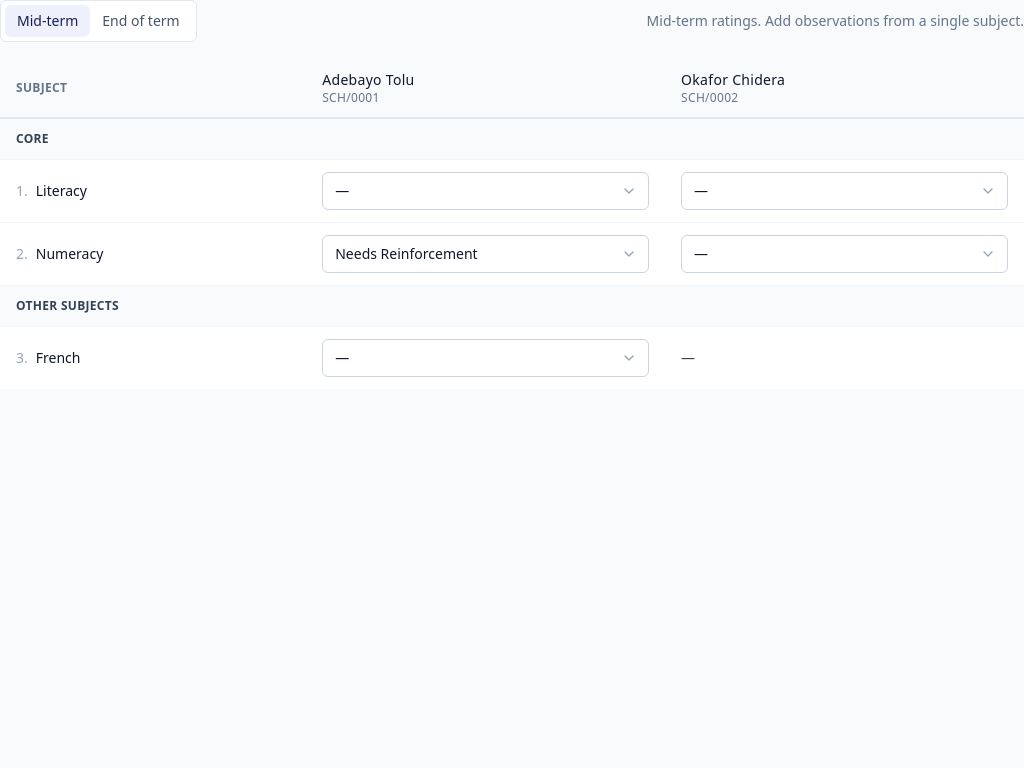
Test: AllSubjectsEntryGrid › asks before switching period with unsaved changes
The width and height of the screenshot is (1024, 768).
Select "Meets Expectation" in the dropdown named "Mid-term rating for Okafor Chidera in Numeracy" at (845, 254), box [681,235,1008,273]
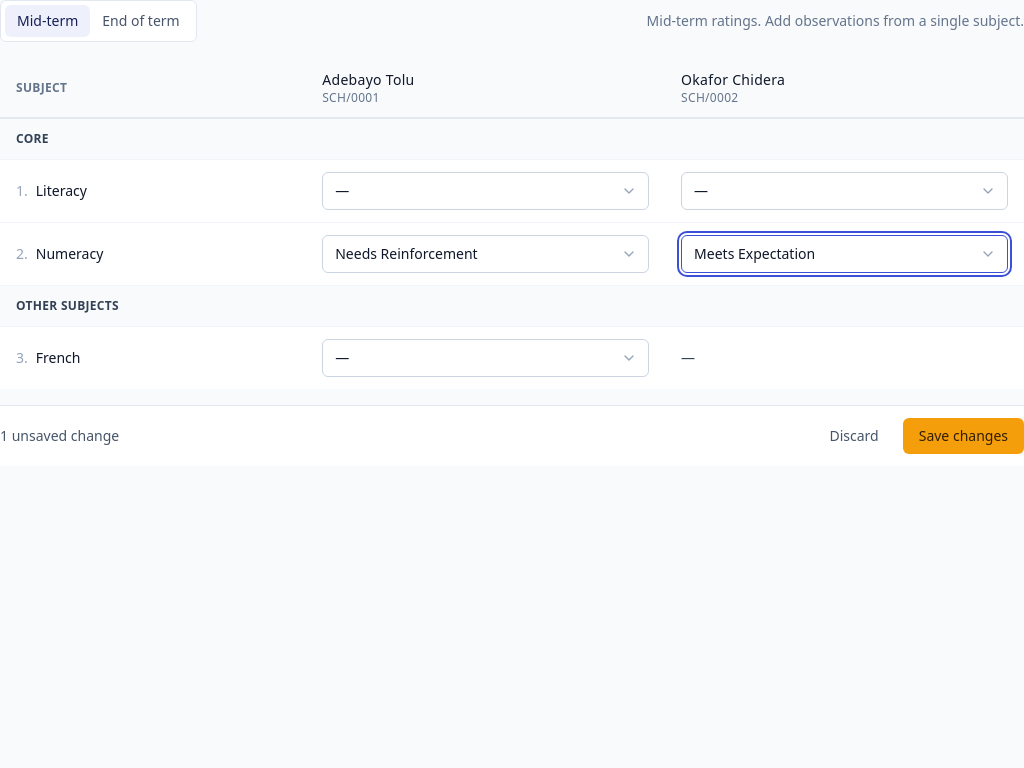
Click the radio button labelled "End of term" at (141, 21), box [90,5,192,37]
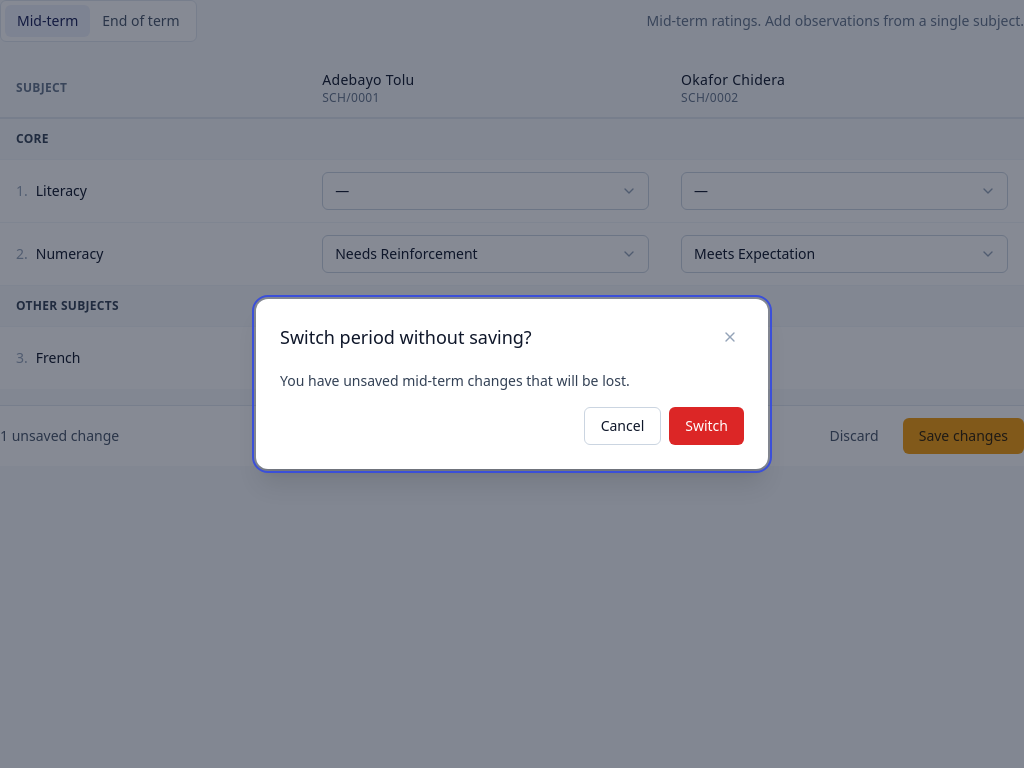
expect the heading "Switch period without saving?" is shown: met, box [280,323,532,351]
Click the button "Switch" at (707, 426), box [669,407,744,445]
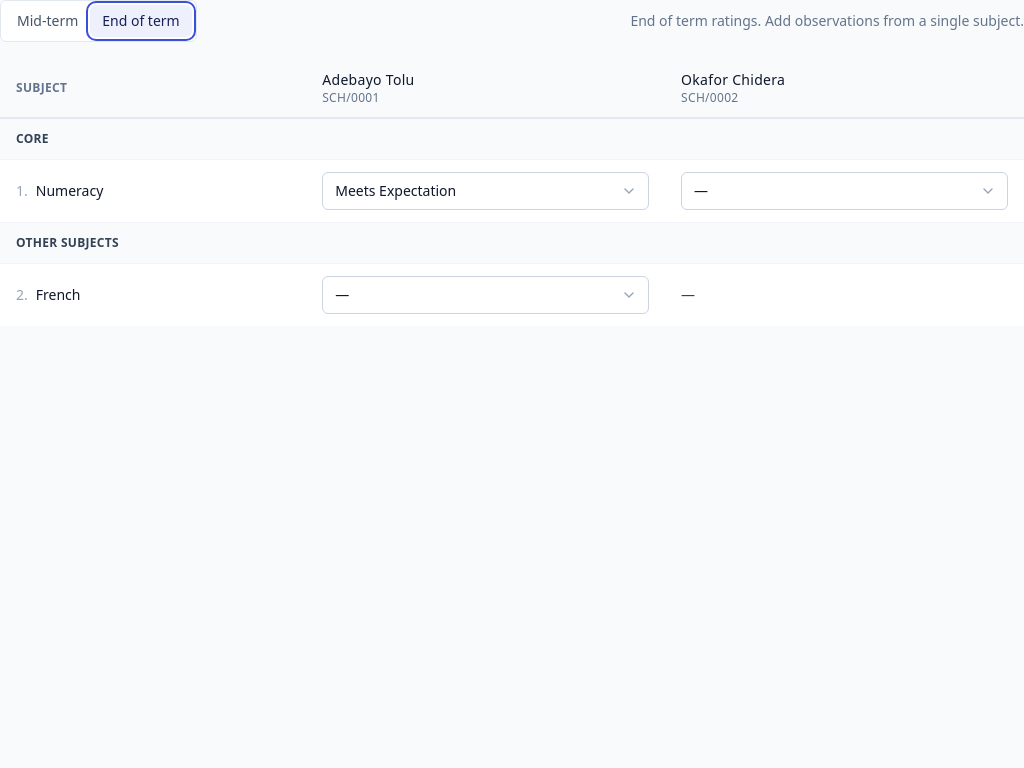
expect the button "Save changes" is gone: met
